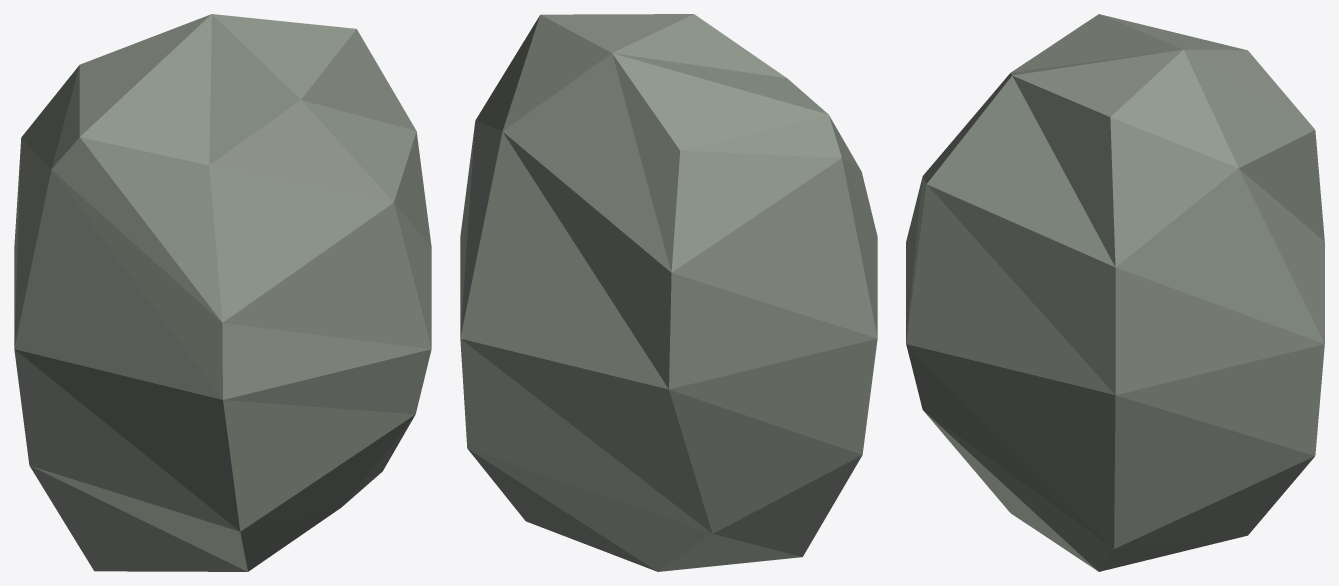
The model's file is Rock_Dark_3.fbx.
The picture shows the model from 3 angles, left to right: view 1: azimuth 30°, elevation 25°; view 2: azimuth 150°, elevation 25°; view 3: azimuth 270°, elevation 25°; orthographic projection.
Parts seen in each view (by area): view 1: Rock_Dark_3; view 2: Rock_Dark_3; view 3: Rock_Dark_3.
Part boxes in pixels (box(x1,y1,x2,y2)): Rock_Dark_3: box(14, 14, 431, 571); Rock_Dark_3: box(460, 14, 877, 571); Rock_Dark_3: box(906, 14, 1324, 571).
Size of the model in its own units: 2 by 2.32 by 1.73.
